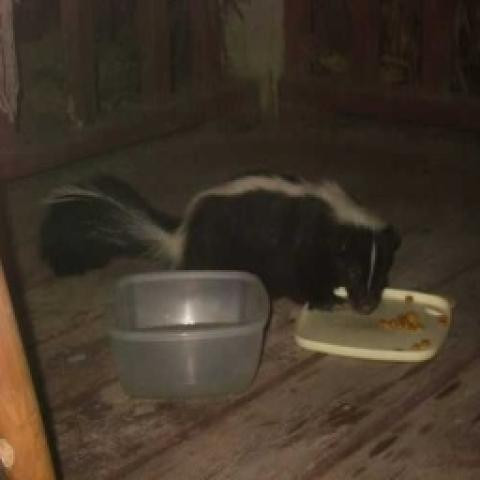small_animal: (36, 167, 403, 315)
